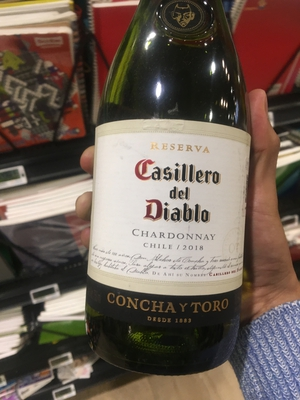casillero del diablo chardonnay: (85, 9, 249, 379)
